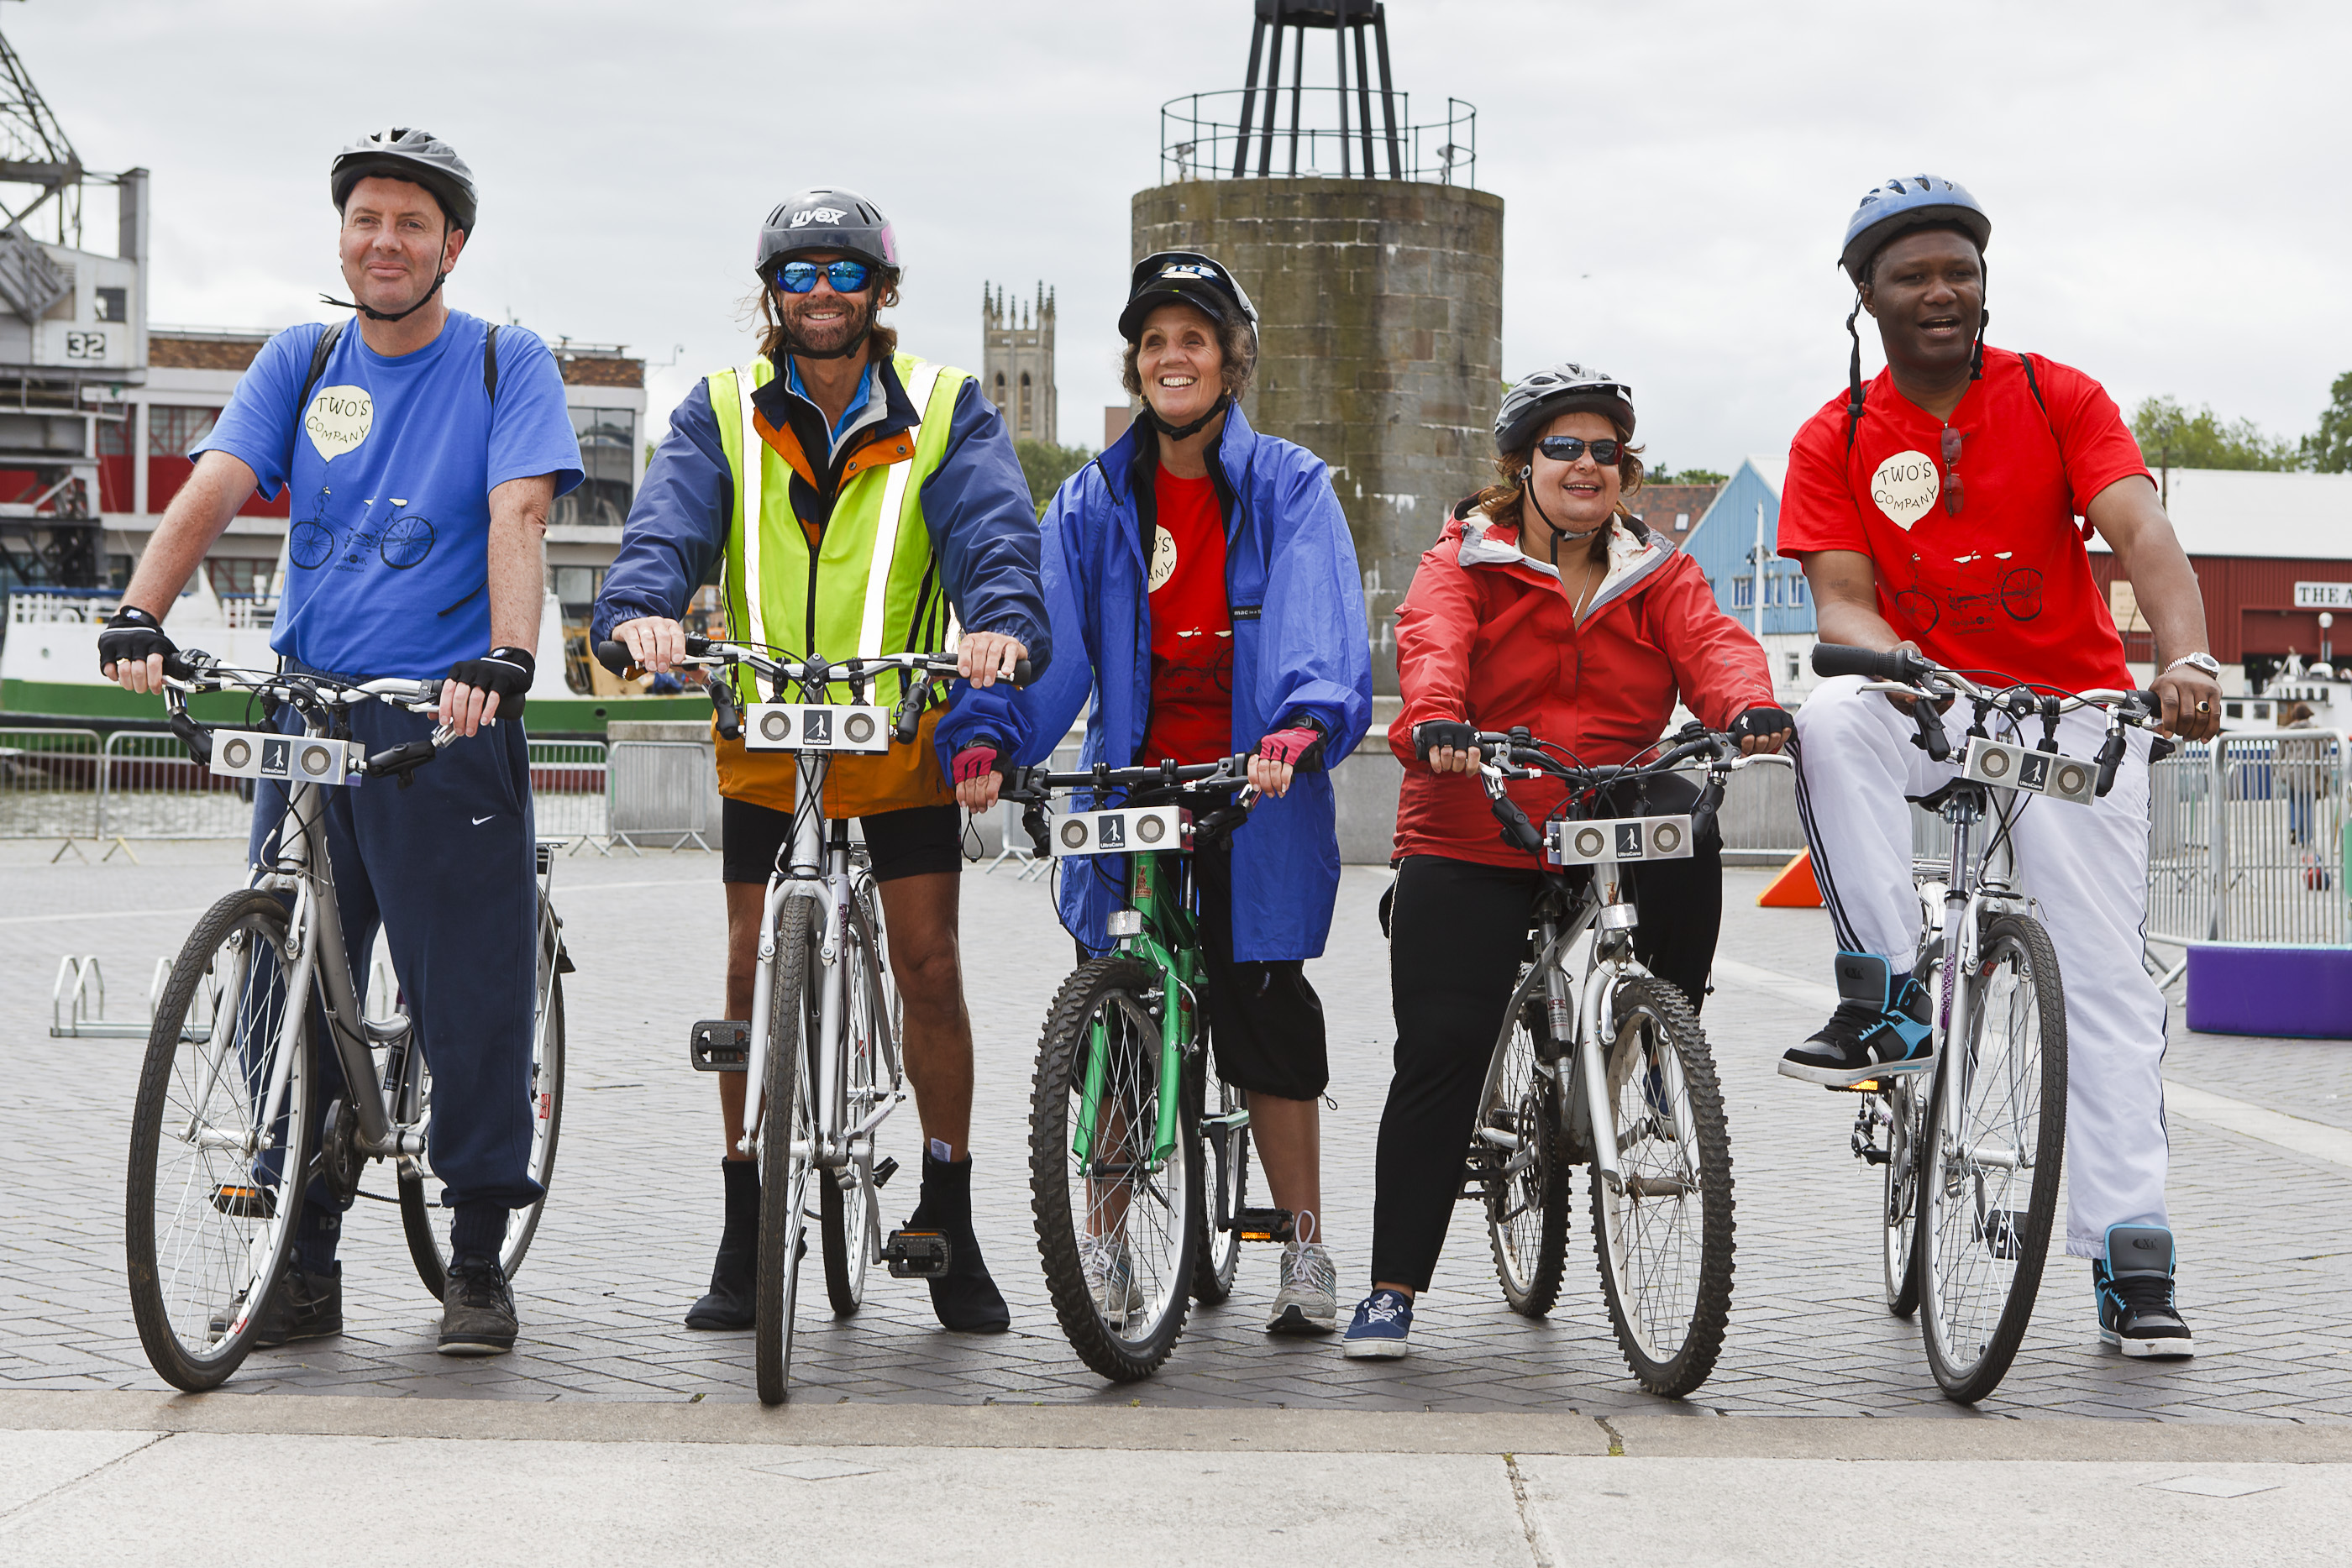with_helmet: (334, 108, 487, 231), (749, 187, 900, 292), (1829, 175, 2007, 245), (1486, 371, 1654, 429)
